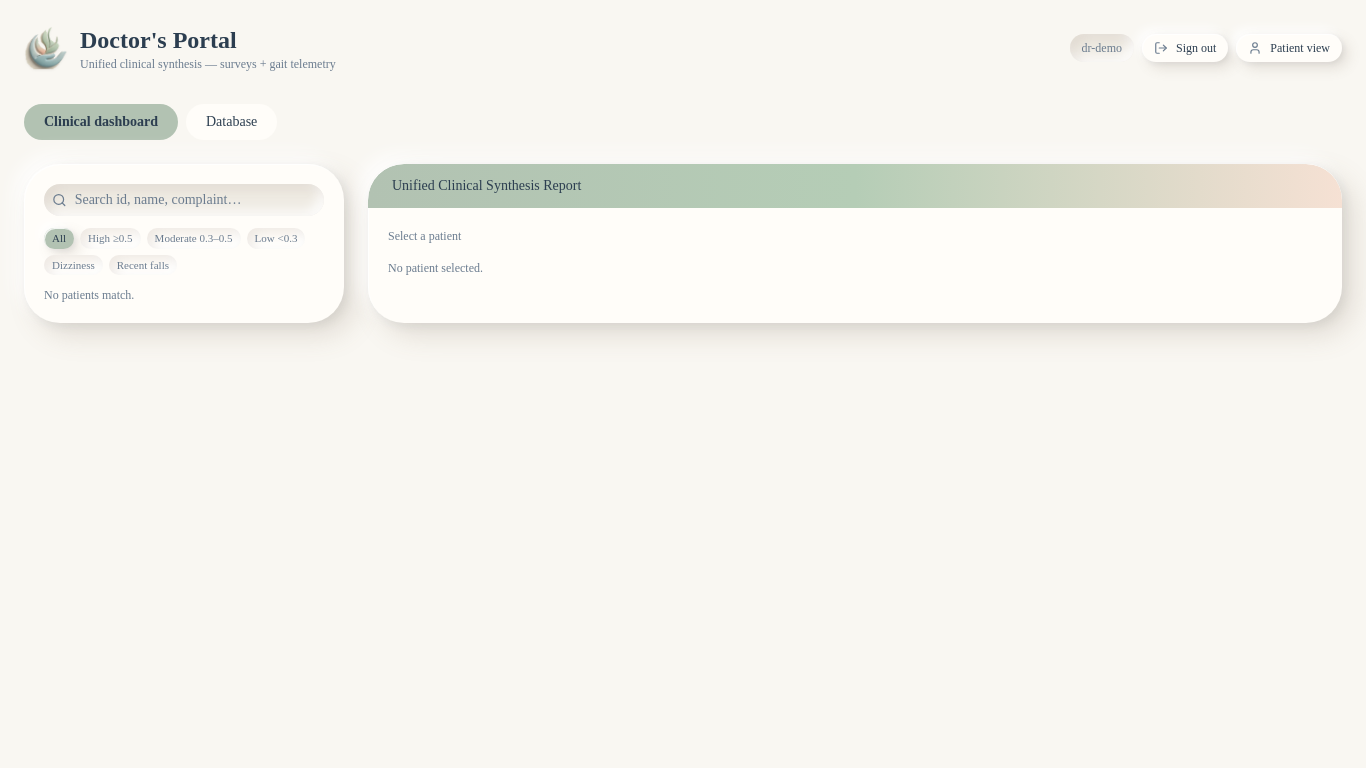
Test: doctor route authentication › logs out and returns to the sign-in boundary
Click the button "Sign out": [1185, 48] box [1142,34,1228,62]
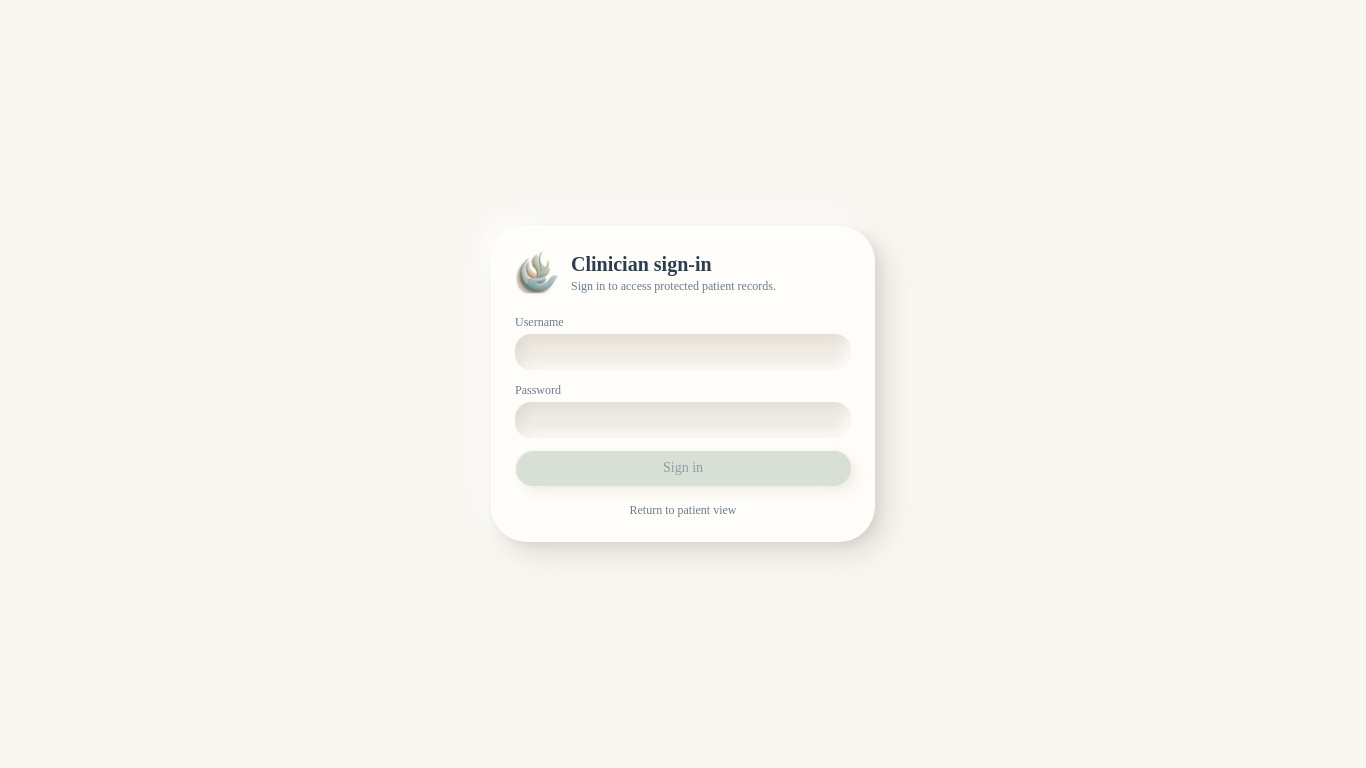
Expected: the heading "Clinician sign-in" is shown, [571,253,712,275]
